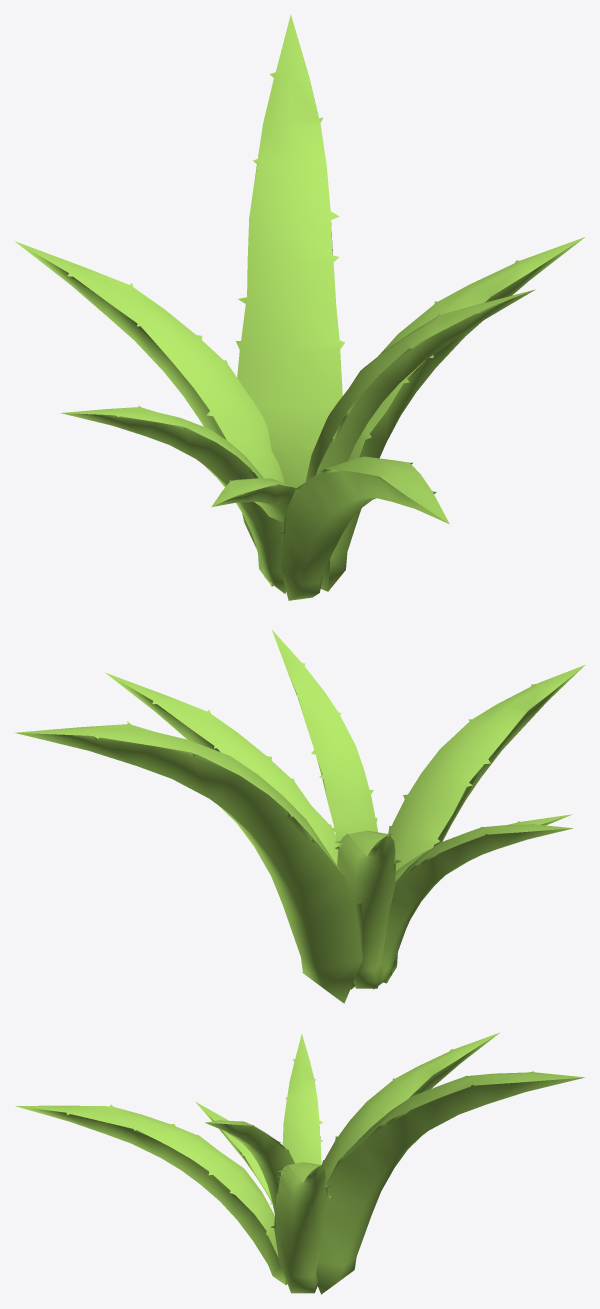
File: SM_Aloe.fbx
The picture shows the model from 3 angles, top to bottom: view 1: azimuth 30°, elevation 25°; view 2: azimuth 150°, elevation 25°; view 3: azimuth 270°, elevation 25°; orthographic projection. The views are drawn at different scales.
Visible parts, largest first — view 1: SM_Aloe; view 2: SM_Aloe; view 3: SM_Aloe.
Part boxes in pixels (x1=…): SM_Aloe: x1=14, y1=14, x2=584, y2=600; SM_Aloe: x1=14, y1=630, x2=584, y2=1003; SM_Aloe: x1=15, y1=1032, x2=585, y2=1294.
Size of the model in its own units: 136 by 95.04 by 179.
